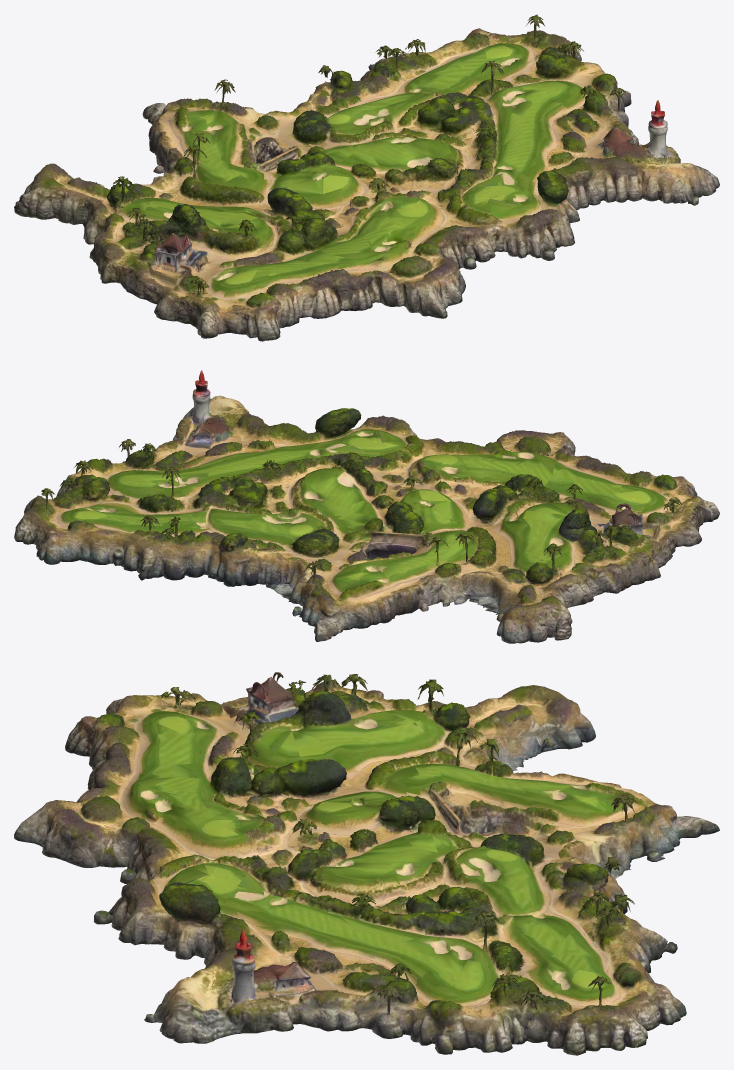
The model's file is coastal-links.glb.
The picture shows the model from 3 angles, top to bottom: view 1: azimuth 30°, elevation 25°; view 2: azimuth 150°, elevation 25°; view 3: azimuth 270°, elevation 25°; orthographic projection. The views are drawn at different scales.
Parts seen in each view (by area): view 1: Mesh_0; view 2: Mesh_0; view 3: Mesh_0.
Boxes of the visible parts, x1,y1,x2,y2 form: Mesh_0: (14,14,719,341); Mesh_0: (14,370,719,643); Mesh_0: (14,672,719,1055).
Bounding box in the file's own units: 1.89 × 0.2402 × 1.61.
1 material, 1 textured.
